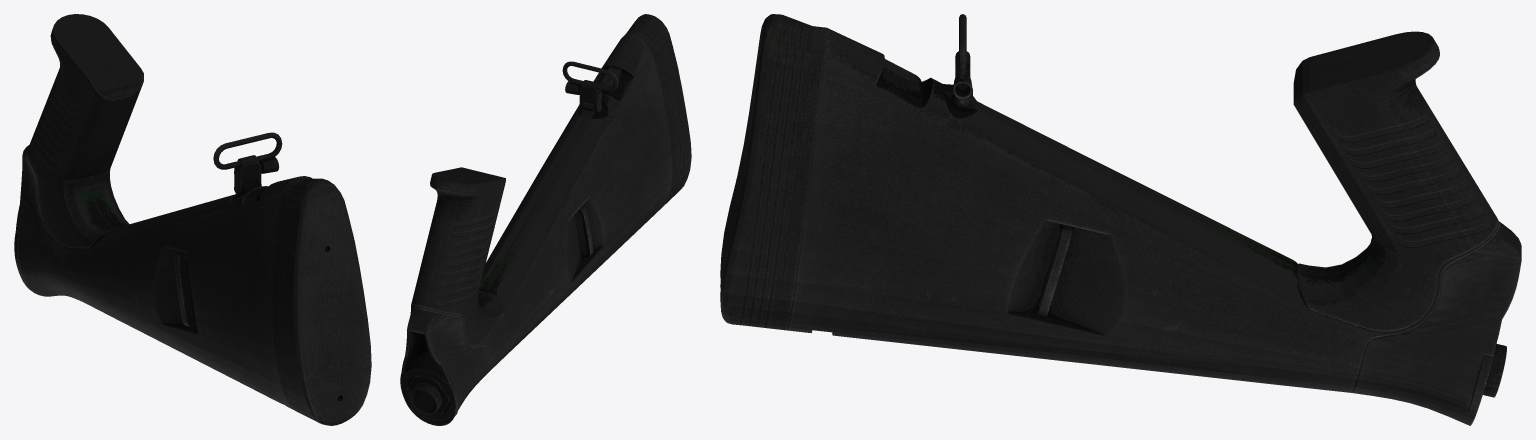
3 views of the same model, side by side, from view 1: azimuth 30°, elevation 25°; view 2: azimuth 150°, elevation 25°; view 3: azimuth 270°, elevation 25° (orthographic). The views are drawn at different scales.
Visible parts, largest first — view 1: TW_625eb0faa6e3a82193267ad9_PZ_Import; view 2: TW_625eb0faa6e3a82193267ad9_PZ_Import; view 3: TW_625eb0faa6e3a82193267ad9_PZ_Import.
Boxes of the visible parts, x1,y1,x2,y2 form: TW_625eb0faa6e3a82193267ad9_PZ_Import: [14, 14, 371, 425]; TW_625eb0faa6e3a82193267ad9_PZ_Import: [400, 14, 691, 425]; TW_625eb0faa6e3a82193267ad9_PZ_Import: [720, 14, 1521, 425].
Bounding box in the file's own units: 0.0251 × 0.1817 × 0.1014.
Materials: 1 (1 with a texture image).
